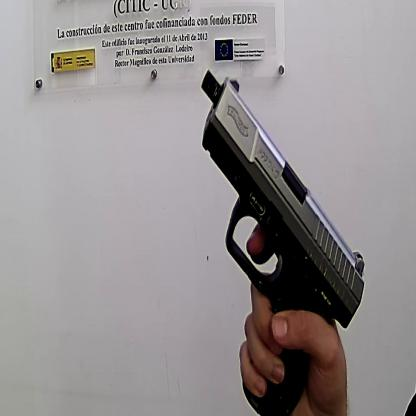gun: (199, 67, 367, 415)
